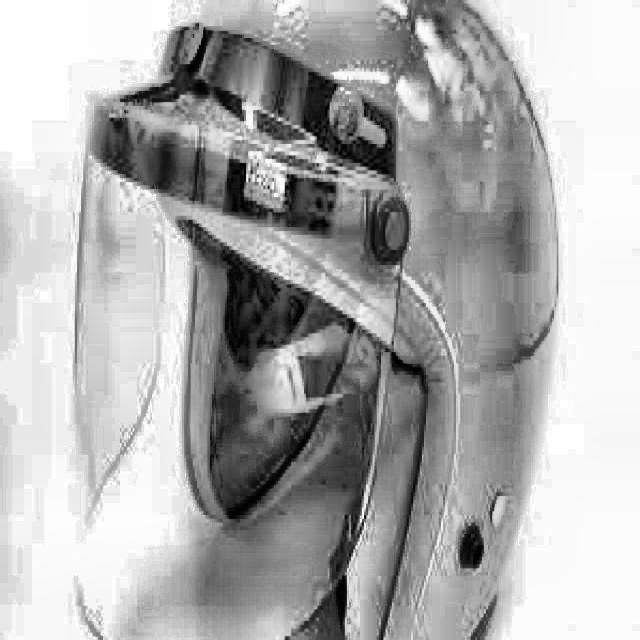Helmet: (75, 1, 555, 640)
